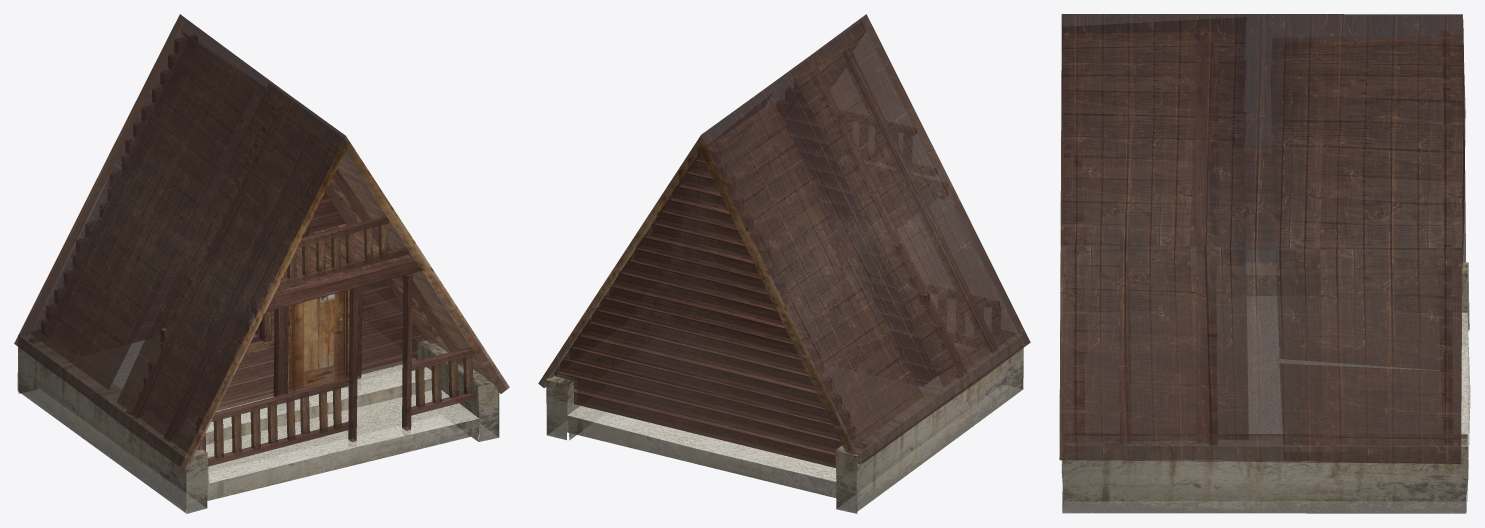
Rendered from Forest_cabin_low_poly.glb.
The picture shows the model from 3 angles, left to right: view 1: azimuth 30°, elevation 25°; view 2: azimuth 150°, elevation 25°; view 3: azimuth 270°, elevation 25°; orthographic projection. The views are drawn at different scales.
Visible parts, largest first — view 1: unnamed; view 2: unnamed; view 3: unnamed.
Boxes of the visible parts, box(x1,y1,x2,y2) form: unnamed: box(14, 14, 509, 513); unnamed: box(538, 14, 1030, 513); unnamed: box(1059, 14, 1470, 513).
Bounding box in the file's own units: 2.08 × 2.06 × 1.86.
Materials: 1 (1 with a texture image).
